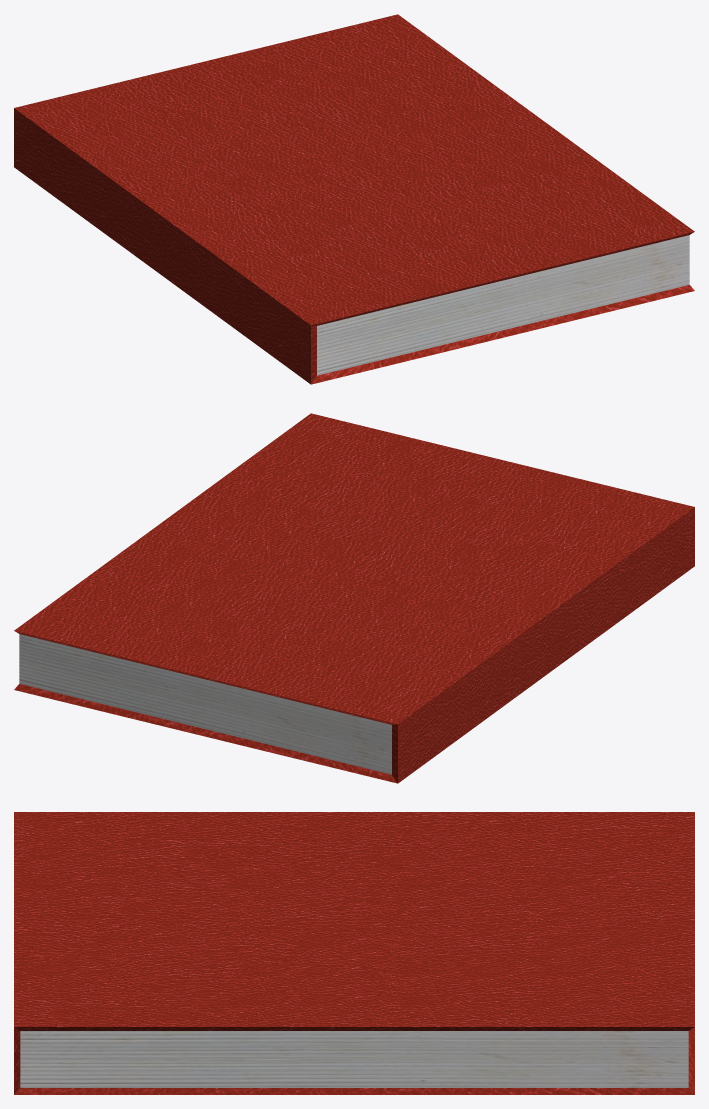
Rendered from Notebook 3.FBX.
3 views of the same model, one above another, from view 1: azimuth 30°, elevation 25°; view 2: azimuth 150°, elevation 25°; view 3: azimuth 270°, elevation 25° (orthographic). The views are drawn at different scales.
Parts seen in each view (by area): view 1: notebook 3; view 2: notebook 3; view 3: notebook 3.
Part boxes in pixels (left/top/right/bottom): notebook 3: left=14, top=14, right=694, bottom=384; notebook 3: left=14, top=413, right=694, bottom=783; notebook 3: left=14, top=812, right=694, bottom=1094.
Bounding box in the file's own units: 10.66 × 1.57 × 14.28.
1 material, 1 textured.
